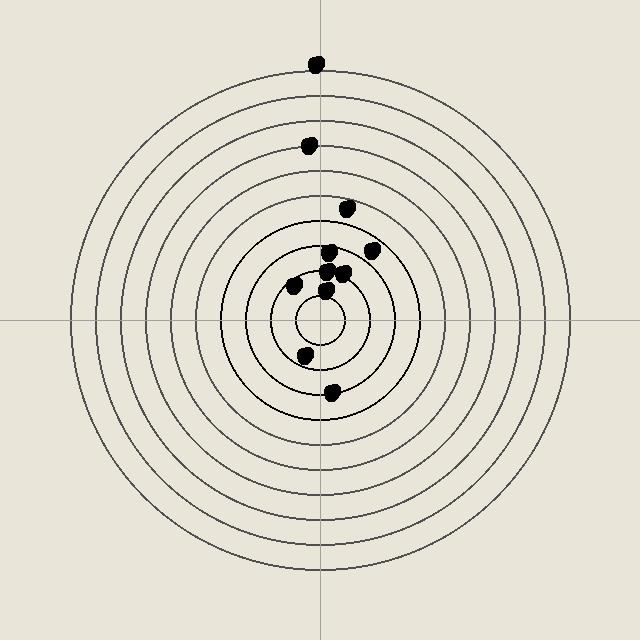vertical_scatter: (305, 54, 325, 74), (336, 198, 356, 218), (283, 275, 303, 295), (361, 240, 381, 260), (294, 345, 314, 365), (315, 280, 335, 300), (332, 263, 352, 283), (321, 382, 341, 402), (318, 242, 338, 262), (298, 135, 318, 155), (316, 261, 336, 281)
